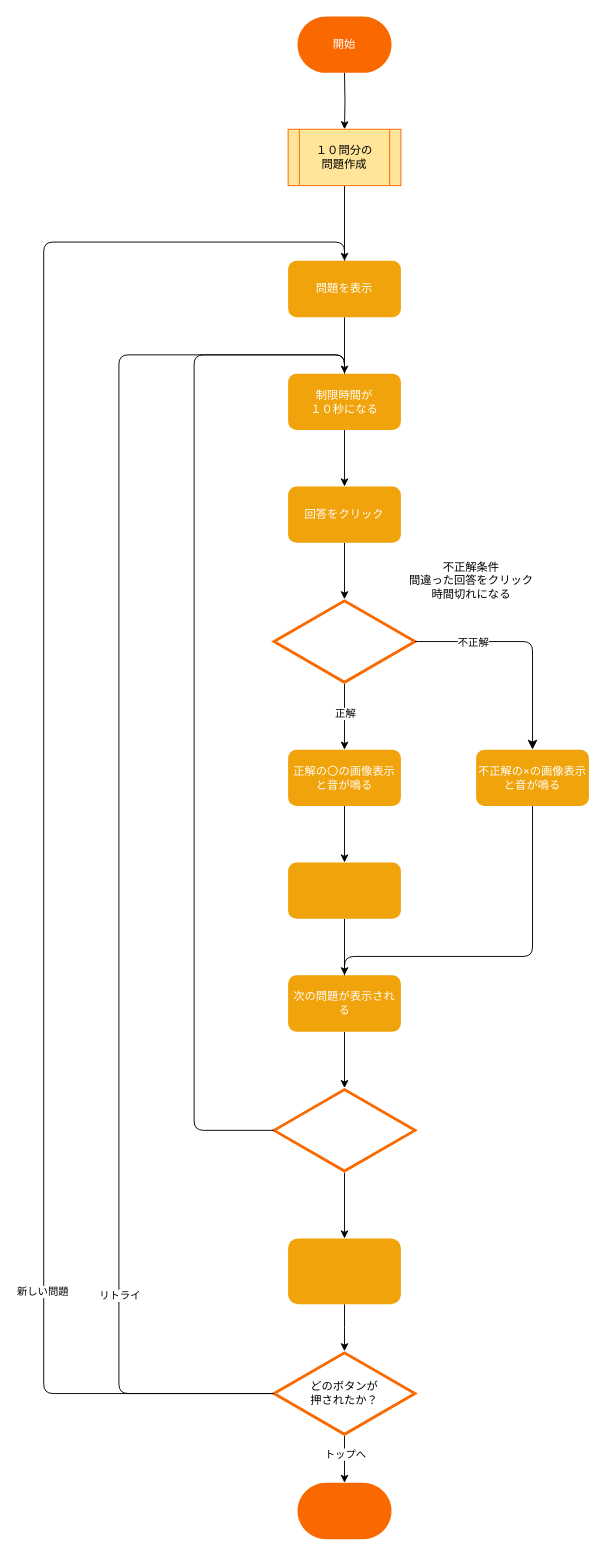
The diagram is 604 pixels wide and 1555 high, and some of its shapes have lost their labels. The shapes that lost their labels are listed below. From the top down, each one's box as (x1, y1, x2, y2) in pixels, then its label:
(272, 597, 416, 685): 正解 or 不正解
(288, 862, 400, 918): 正答数が ひとつ増える
(272, 1086, 416, 1174): 問題が １０問終了したか？
(288, 1238, 400, 1304): 正答数とリトライ、新しい問題のボタン、トップへのボタンを表示
(297, 1482, 391, 1539): 終了
